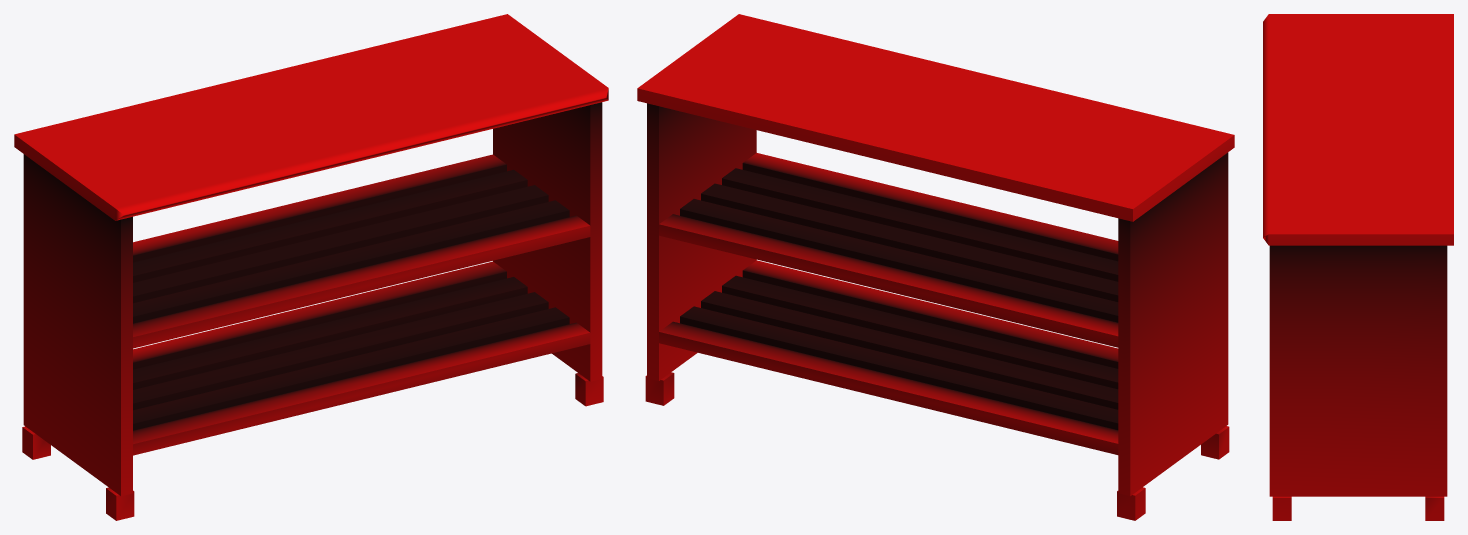
The model's file is CI_Decor_ShoeRack.glb.
3 renders of one model, left to right at view 1: azimuth 30°, elevation 25°; view 2: azimuth 150°, elevation 25°; view 3: azimuth 270°, elevation 25°, orthographic. The views are drawn at different scales.
Parts seen in each view (by area): view 1: CI_Decor_ShoeRack; view 2: CI_Decor_ShoeRack; view 3: CI_Decor_ShoeRack.
Boxes of the visible parts, left/top/right/bottom form: CI_Decor_ShoeRack: left=14, top=14, right=608, bottom=520; CI_Decor_ShoeRack: left=637, top=14, right=1234, bottom=520; CI_Decor_ShoeRack: left=1263, top=14, right=1453, bottom=520.
Size of the model in its own units: 0.82 by 0.5 by 0.3.
